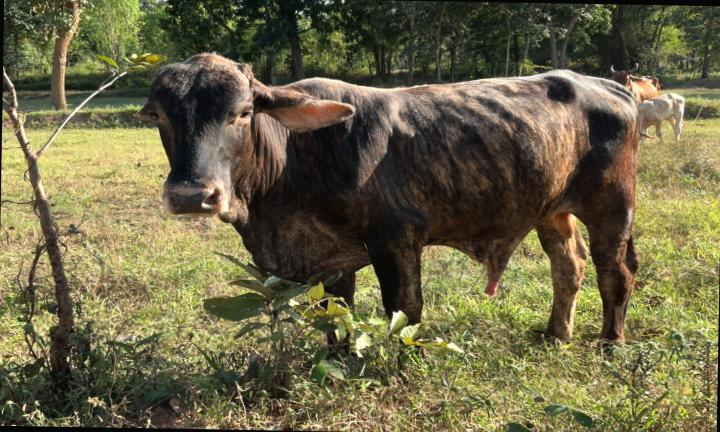Charolais: (140, 54, 639, 342)
